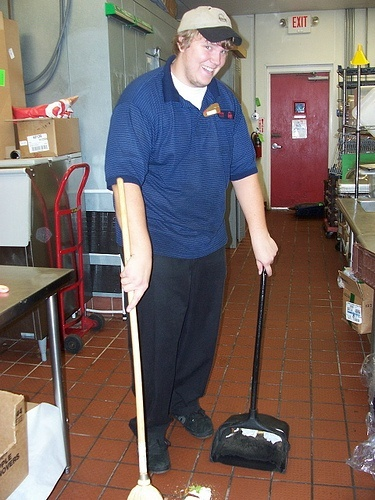head: (173, 3, 244, 90)
person: (109, 4, 277, 480)
